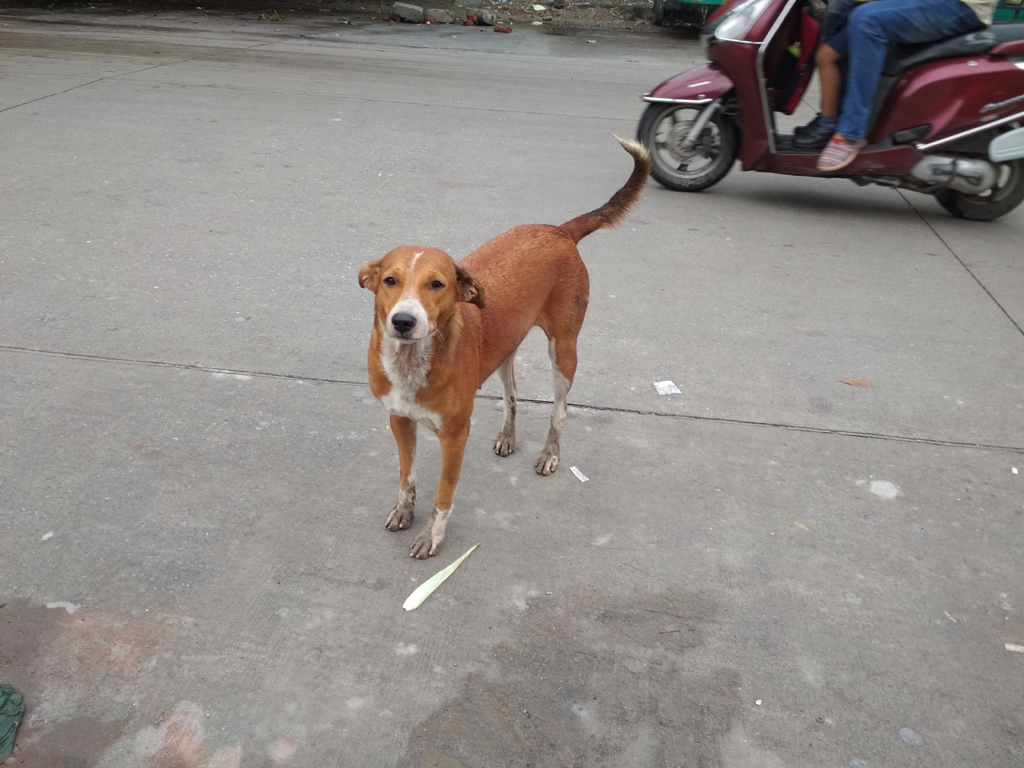dog: (359, 133, 652, 559)
